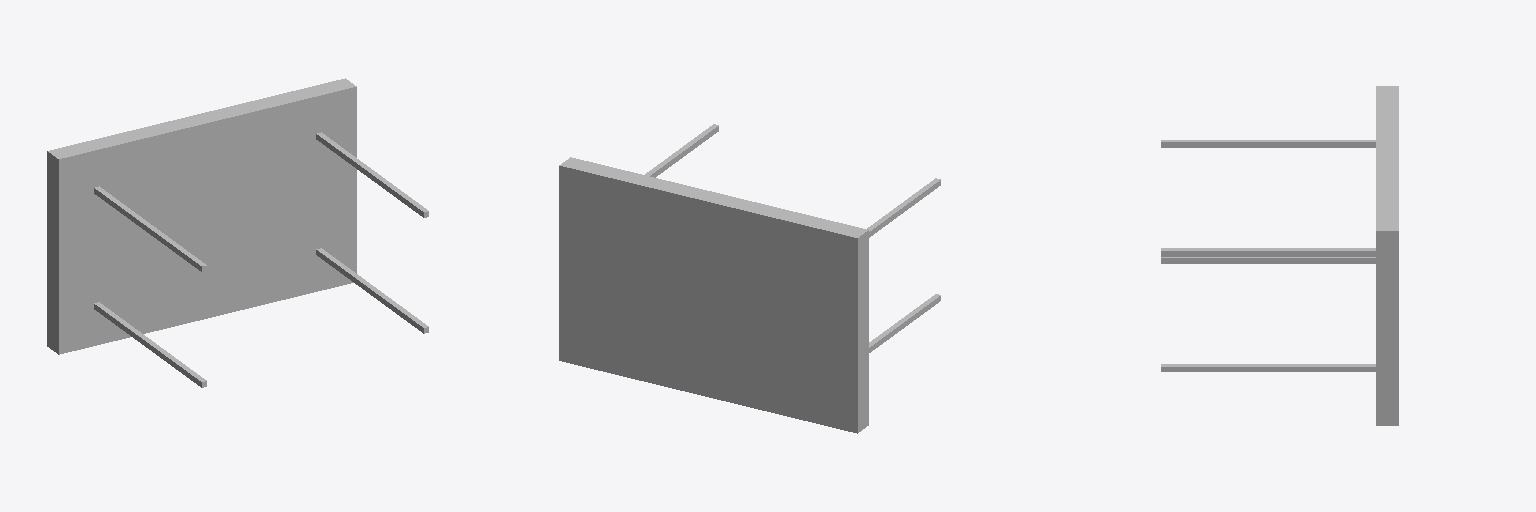
Rendered from random_table72.obj.
3 views of the same model, side by side, from view 1: azimuth 30°, elevation 25°; view 2: azimuth 150°, elevation 25°; view 3: azimuth 270°, elevation 25° (orthographic).
Visible parts, largest first — view 1: Table_Cube.1425, TableLeg1_Cube.1427, TableLeg3_Cube.1429, TableLeg2_Cube.1428, TableLeg0_Cube.1426; view 2: Table_Cube.1425, TableLeg1_Cube.1427, TableLeg3_Cube.1429, TableLeg0_Cube.1426; view 3: Table_Cube.1425, TableLeg0_Cube.1426, TableLeg1_Cube.1427, TableLeg2_Cube.1428, TableLeg3_Cube.1429.
Part boxes in pixels (left/top/right/bottom): Table_Cube.1425: left=47, top=78, right=356, bottom=354; TableLeg1_Cube.1427: left=94, top=186, right=206, bottom=271; TableLeg3_Cube.1429: left=94, top=302, right=206, bottom=387; TableLeg2_Cube.1428: left=316, top=248, right=428, bottom=333; TableLeg0_Cube.1426: left=316, top=132, right=428, bottom=217; Table_Cube.1425: left=559, top=157, right=868, bottom=433; TableLeg1_Cube.1427: left=867, top=178, right=940, bottom=237; TableLeg3_Cube.1429: left=869, top=294, right=940, bottom=352; TableLeg0_Cube.1426: left=645, top=124, right=718, bottom=177; Table_Cube.1425: left=1376, top=86, right=1398, bottom=425; TableLeg0_Cube.1426: left=1161, top=248, right=1375, bottom=256; TableLeg1_Cube.1427: left=1161, top=140, right=1375, bottom=147; TableLeg2_Cube.1428: left=1161, top=364, right=1375, bottom=371; TableLeg3_Cube.1429: left=1161, top=257, right=1375, bottom=263.
Size of the model in its own units: 7.04 by 4.41 by 4.87.